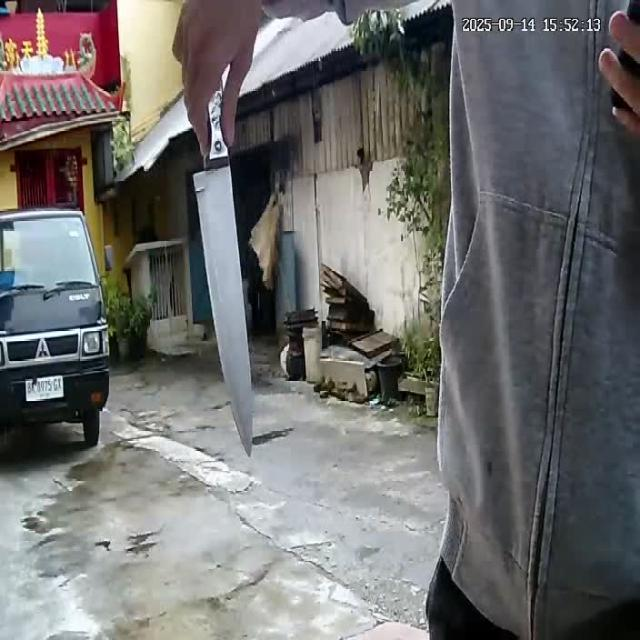senjata_tajam: (191, 145, 257, 456)
